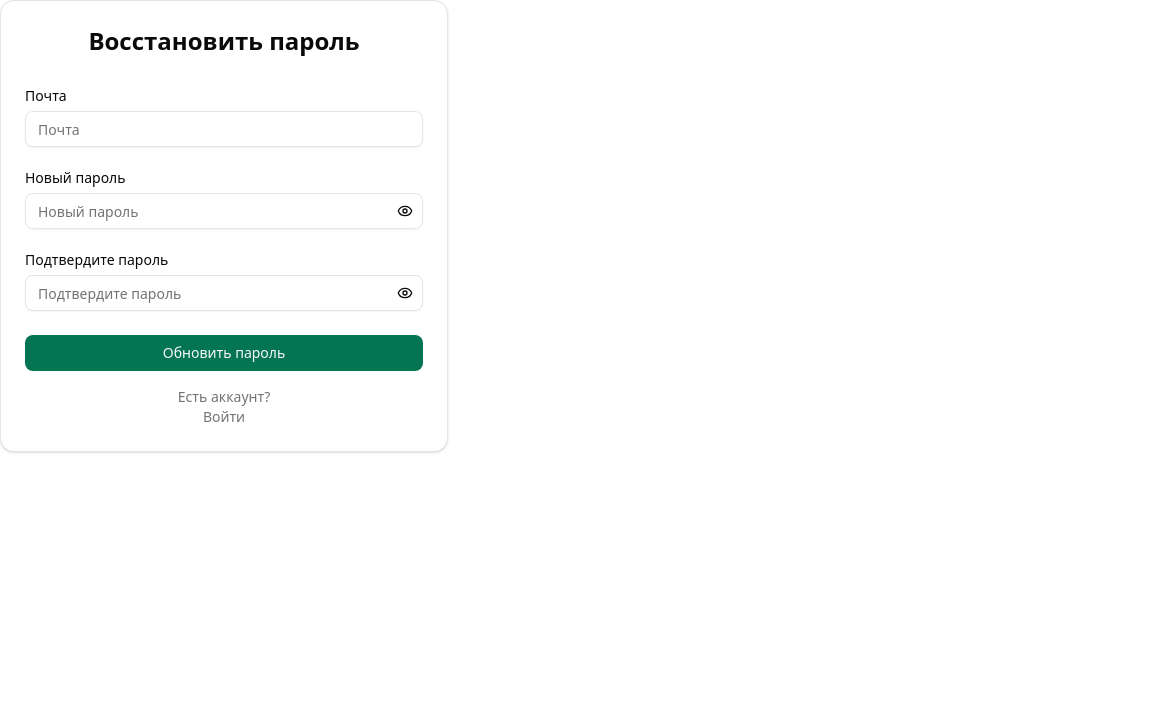
Scenario: RestoreForm › should open code dialog when code is sent
Type "test@abai-it.kz" into the field.
click(224, 129); type("test@abai-it.kz")  # box [25,111,423,147]
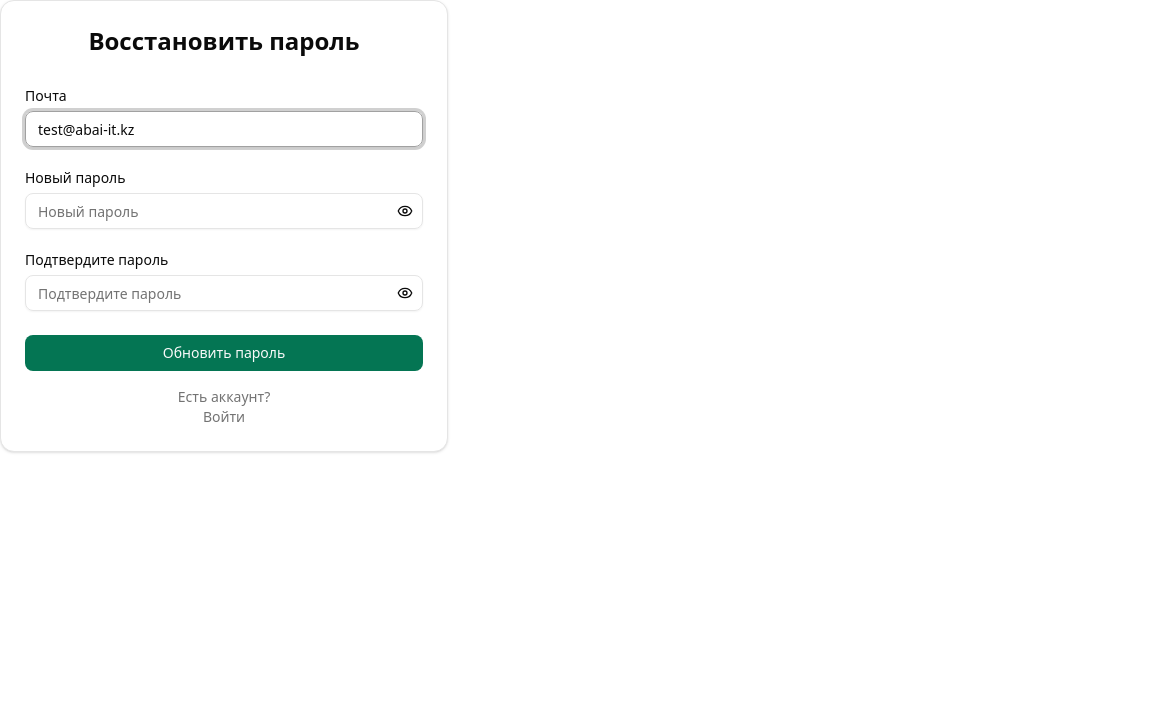
Type "Test12345678" into the password field with placeholder "Новый пароль".
click(224, 211); type("Test12345678")  # box [25,193,423,229]
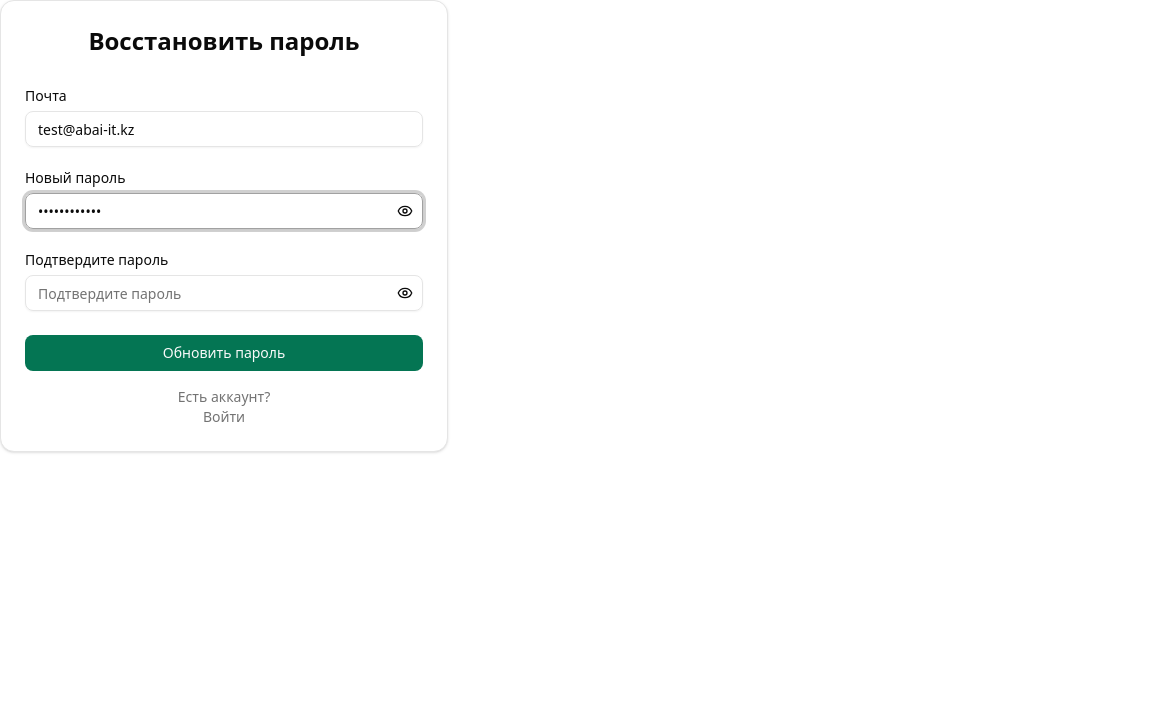
Type "Test12345678" into the password field with placeholder "Подтвердите пароль".
click(224, 293); type("Test12345678")  # box [25,275,423,311]
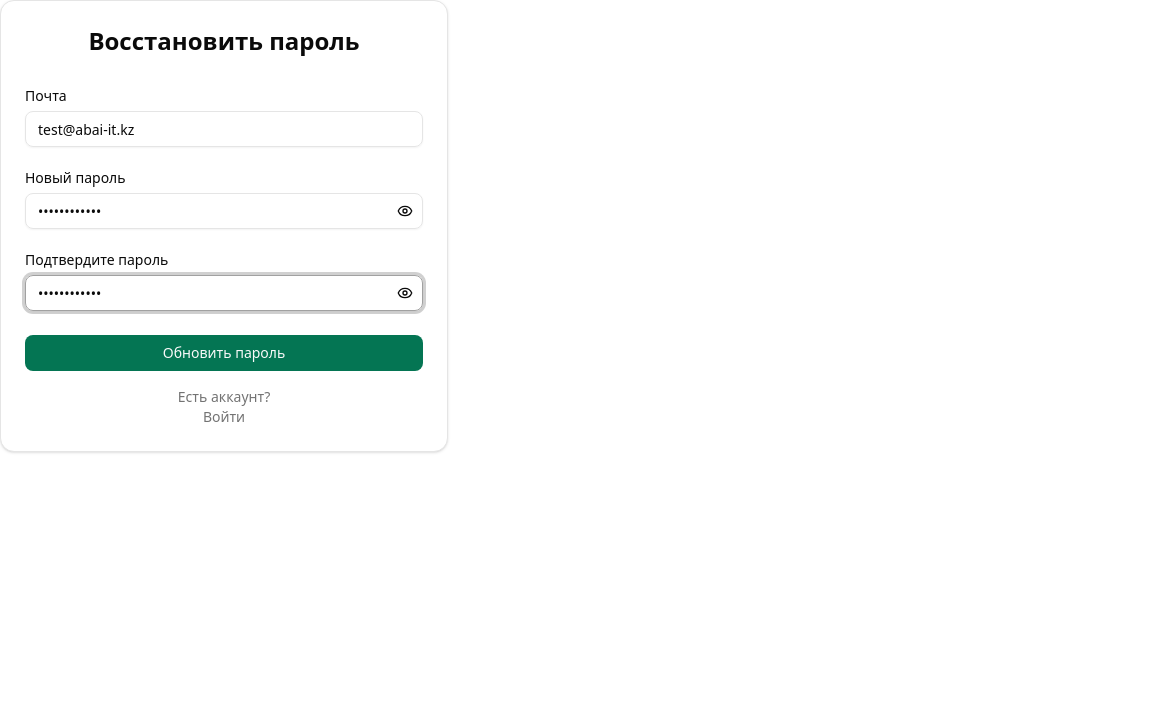
Click the button "Обновить пароль".
click(224, 353)  # box [25,335,423,371]
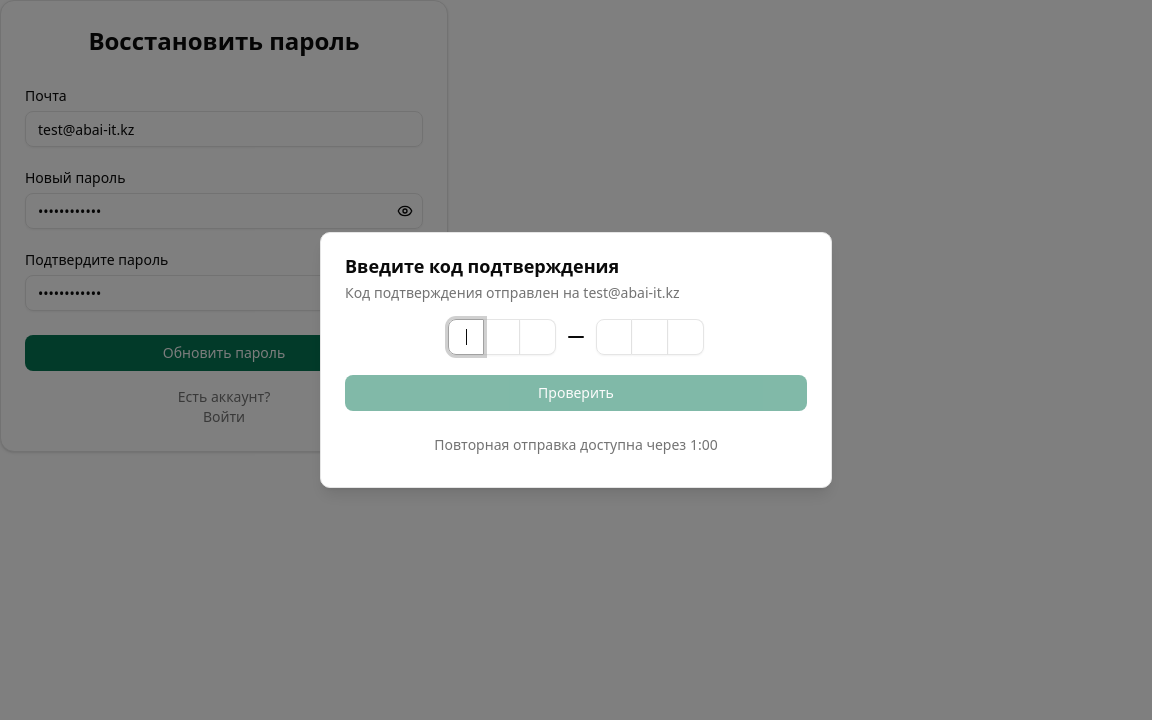
Expected: the element that starts with "Введите код подтверждения" is shown, [345,254,680,302]
